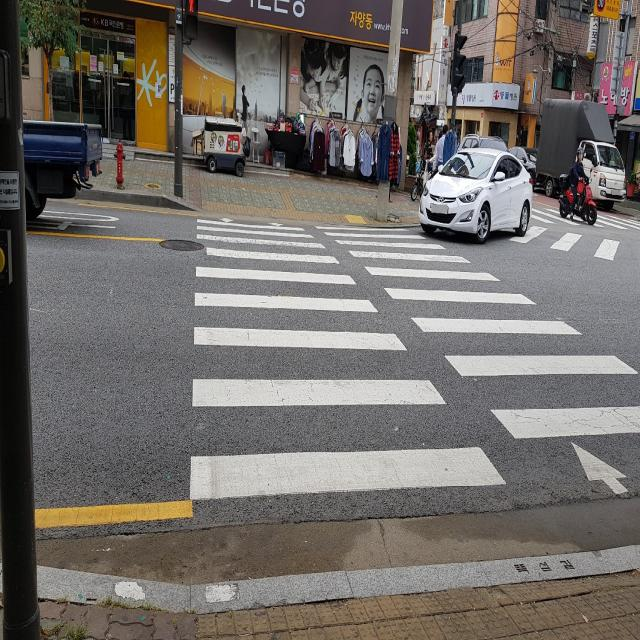횡단보도: (188, 217, 640, 503)
